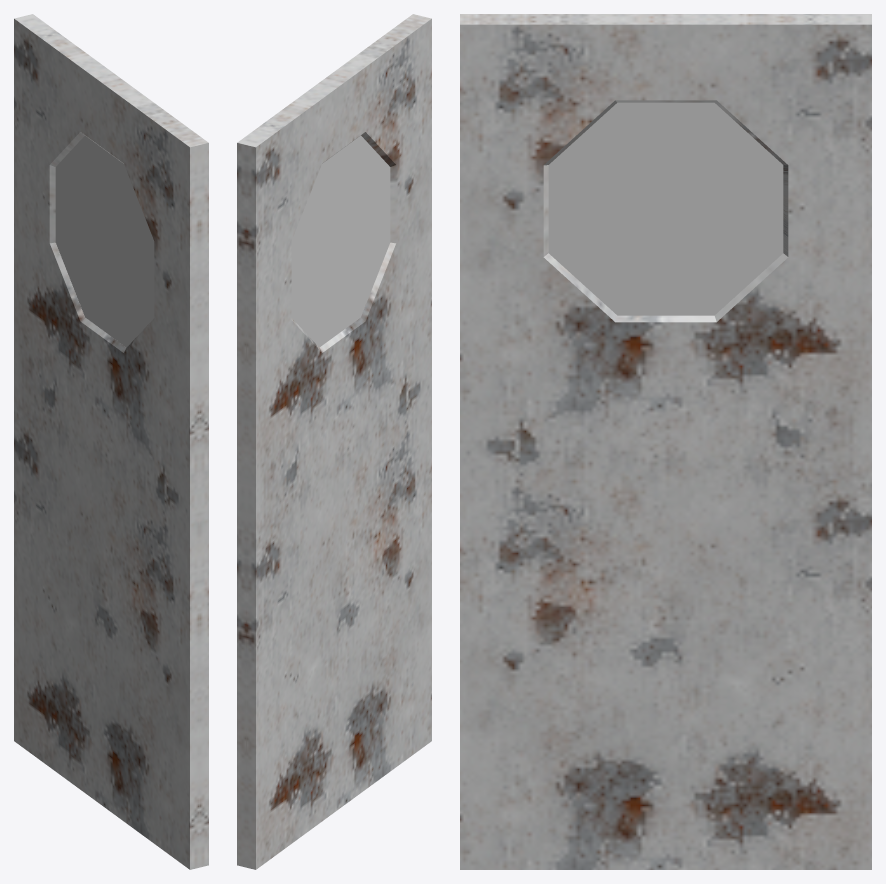
The model's file is Door.fbx.
The picture shows the model from 3 angles, left to right: view 1: azimuth 30°, elevation 25°; view 2: azimuth 150°, elevation 25°; view 3: azimuth 270°, elevation 25°; orthographic projection. The views are drawn at different scales.
Parts seen in each view (by area): view 1: Door; view 2: Door; view 3: Door.
Boxes of the visible parts, x1,y1,x2,y2 form: Door: [14, 14, 208, 869]; Door: [237, 14, 431, 869]; Door: [460, 14, 871, 869].
Bounding box in the file's own units: 5 × 184 × 81.
